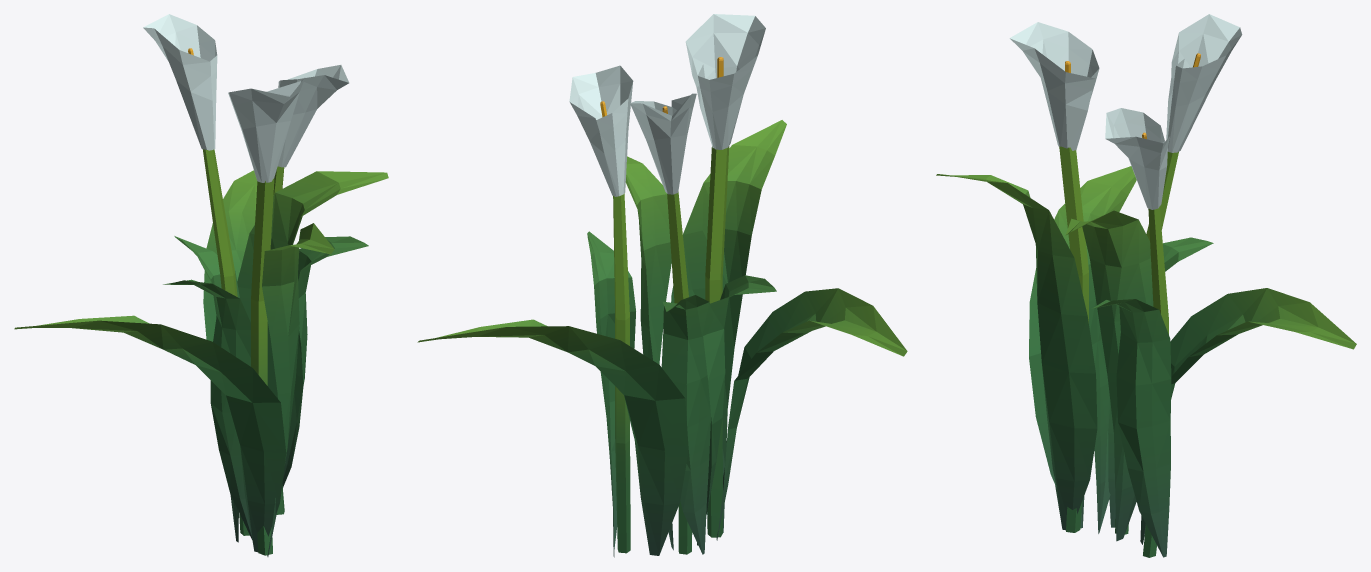
Rendered from blanco-3.glb.
3 renders of one model, left to right at view 1: azimuth 30°, elevation 25°; view 2: azimuth 150°, elevation 25°; view 3: azimuth 270°, elevation 25°, orthographic. The views are drawn at different scales.
Visible parts, largest first — view 1: Flower; view 2: Flower; view 3: Flower.
Part boxes in pixels (<box>): Flower: <box>14,14,388,556</box>; Flower: <box>417,14,907,557</box>; Flower: <box>936,14,1356,557</box>.
Size of the model in its own units: 2.19 by 2.78 by 2.14.
1 material, 1 textured.
